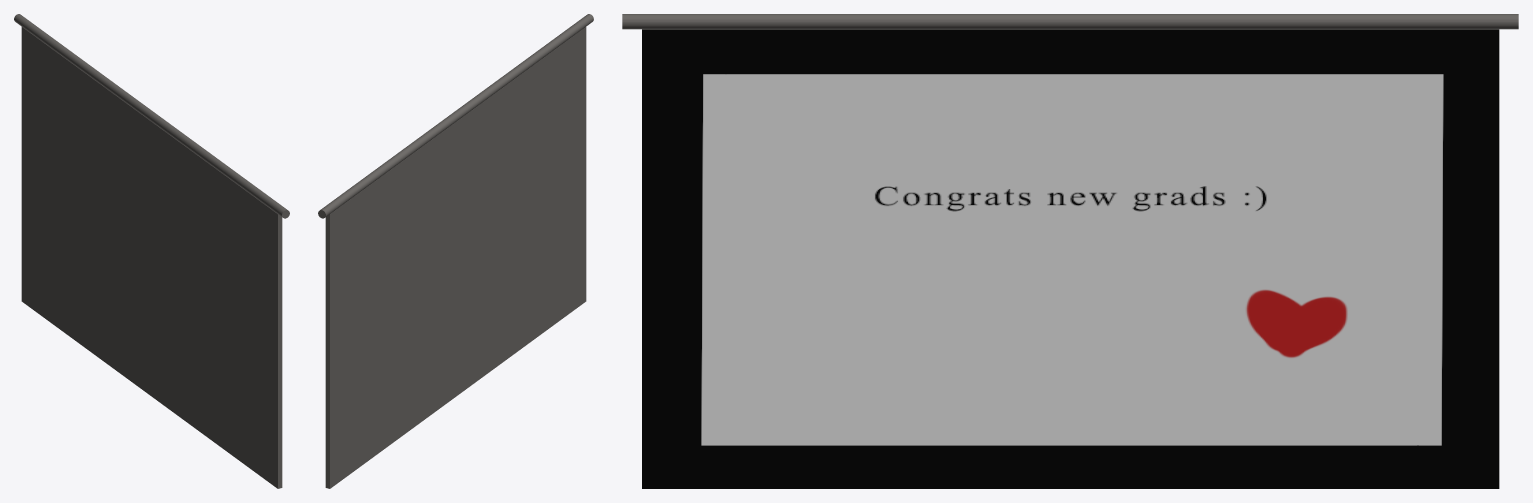
The model's file is ProjectorScreen.fbx.
The picture shows the model from 3 angles, left to right: view 1: azimuth 30°, elevation 25°; view 2: azimuth 150°, elevation 25°; view 3: azimuth 270°, elevation 25°; orthographic projection. The views are drawn at different scales.
Parts seen in each view (by area): view 1: Cube.001; view 2: Cube.001; view 3: Cube.001.
Boxes of the visible parts, <box> form: Cube.001: <box>14,14,289,488</box>; Cube.001: <box>318,14,593,488</box>; Cube.001: <box>622,14,1518,488</box>.
Size of the model in its own units: 24.03 by 822 by 1414.
